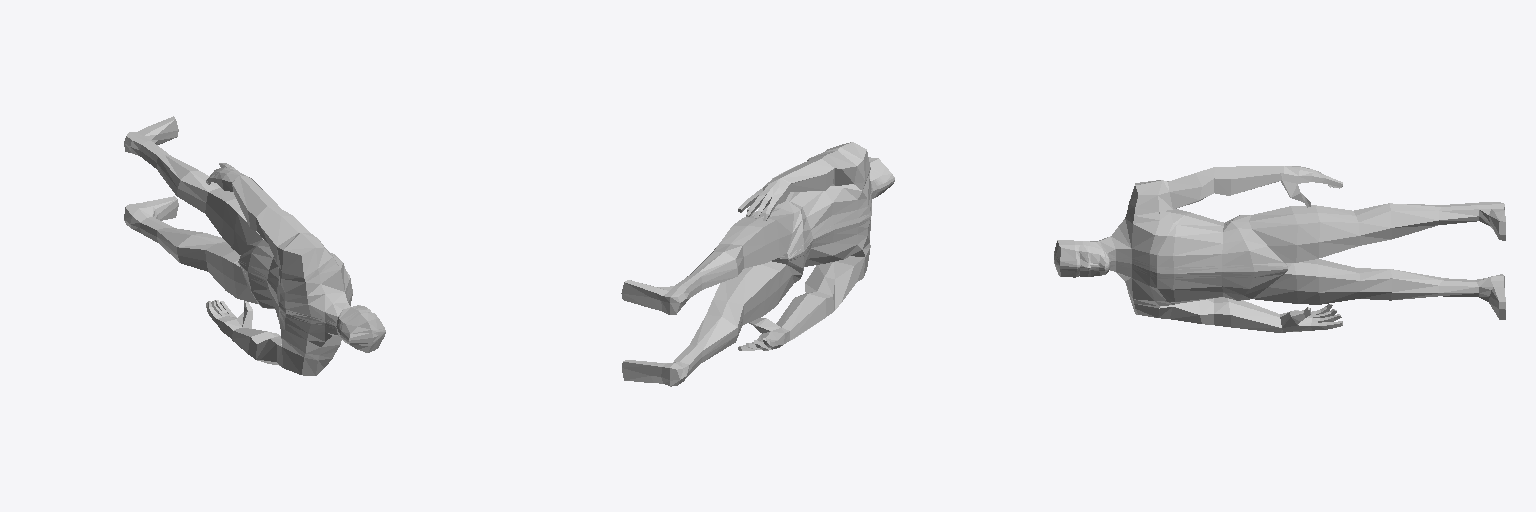
The model's file is dummy.obj.
3 renders of one model, left to right at view 1: azimuth 30°, elevation 25°; view 2: azimuth 150°, elevation 25°; view 3: azimuth 270°, elevation 25°, orthographic.
Visible parts, largest first — view 1: Cube_Cube.003; view 2: Cube_Cube.003; view 3: Cube_Cube.003.
Part boxes in pixels (x1,y1,x2,y2): Cube_Cube.003: (124, 116, 385, 375); Cube_Cube.003: (621, 142, 894, 386); Cube_Cube.003: (1054, 166, 1505, 332).
Size of the model in its own units: 0.4247 by 0.9154 by 2.26.